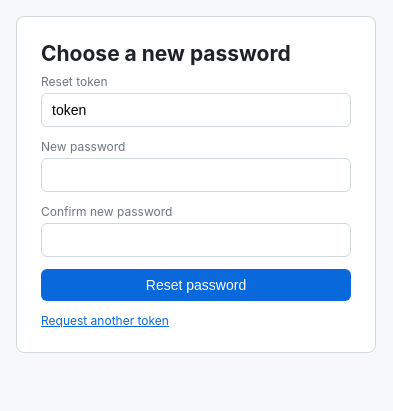
Test: PasswordResetPage › does not submit mismatched passwords
Type "new-password" into the password field labelled "New password" at x=196, y=175, box 41,158 -> 351,192
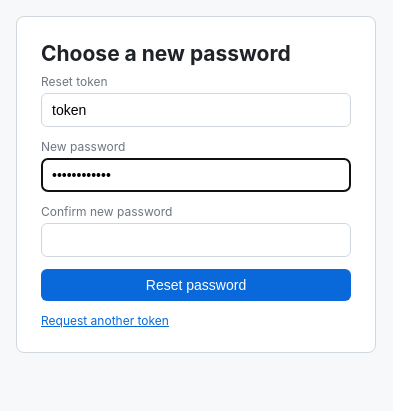
Type "different-password" into the password field labelled "Confirm new password" at x=196, y=240, box 41,223 -> 351,257
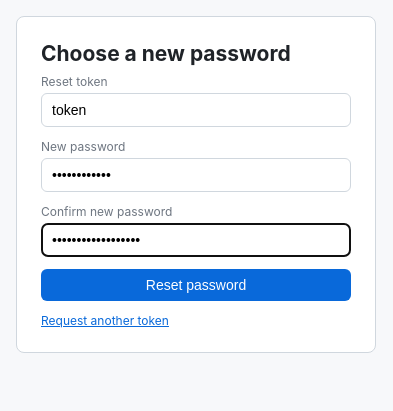
Click the button "Reset password" at x=196, y=285, box 41,269 -> 351,301
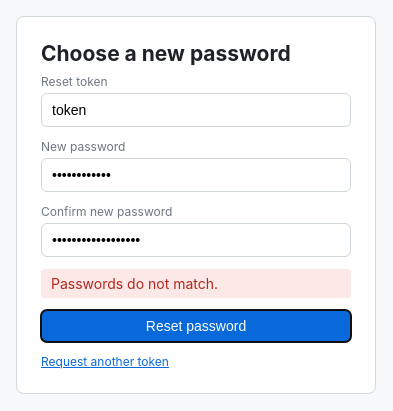
Expected: the message reads "Passwords do not match.", 51,275 -> 218,292
